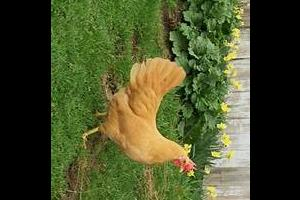hen: (80, 56, 198, 175)
